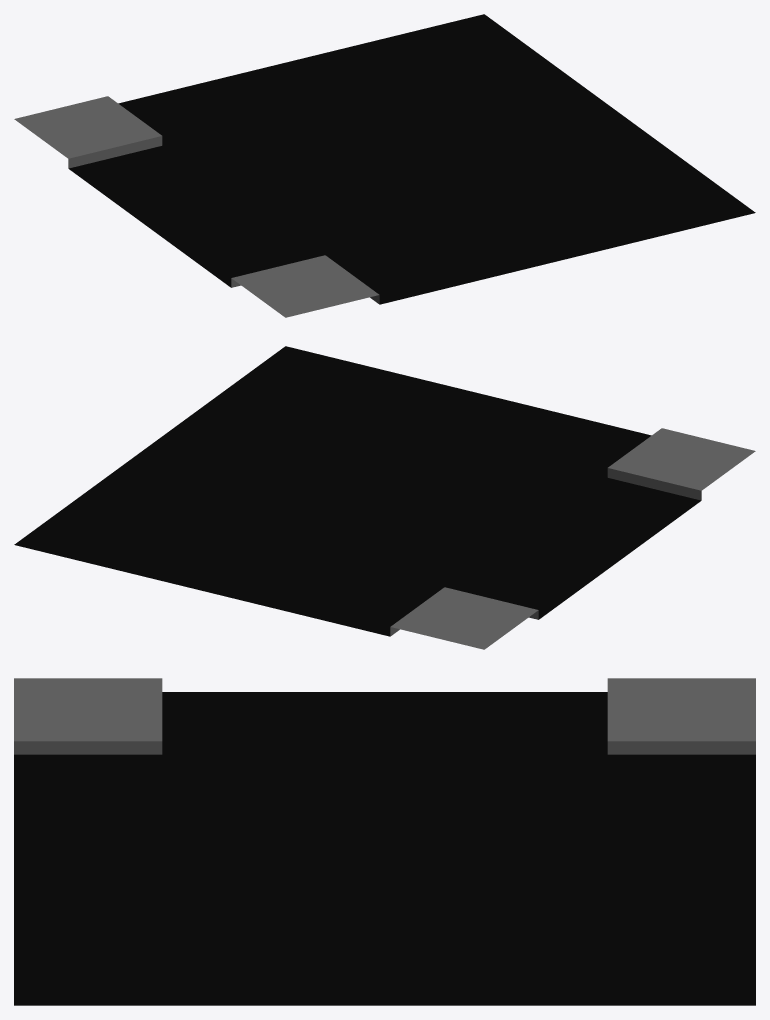
File: Road_CarPark3.fbx
The picture shows the model from 3 angles, top to bottom: view 1: azimuth 30°, elevation 25°; view 2: azimuth 150°, elevation 25°; view 3: azimuth 270°, elevation 25°; orthographic projection. The views are drawn at different scales.
Parts seen in each view (by area): view 1: Road_CarPark3; view 2: Road_CarPark3; view 3: Road_CarPark3.
Boxes of the visible parts, bbox=[...] form: Road_CarPark3: bbox=[14, 14, 755, 317]; Road_CarPark3: bbox=[14, 346, 755, 649]; Road_CarPark3: bbox=[14, 678, 755, 1005].
Size of the model in its own units: 10 by 0.2 by 10.
